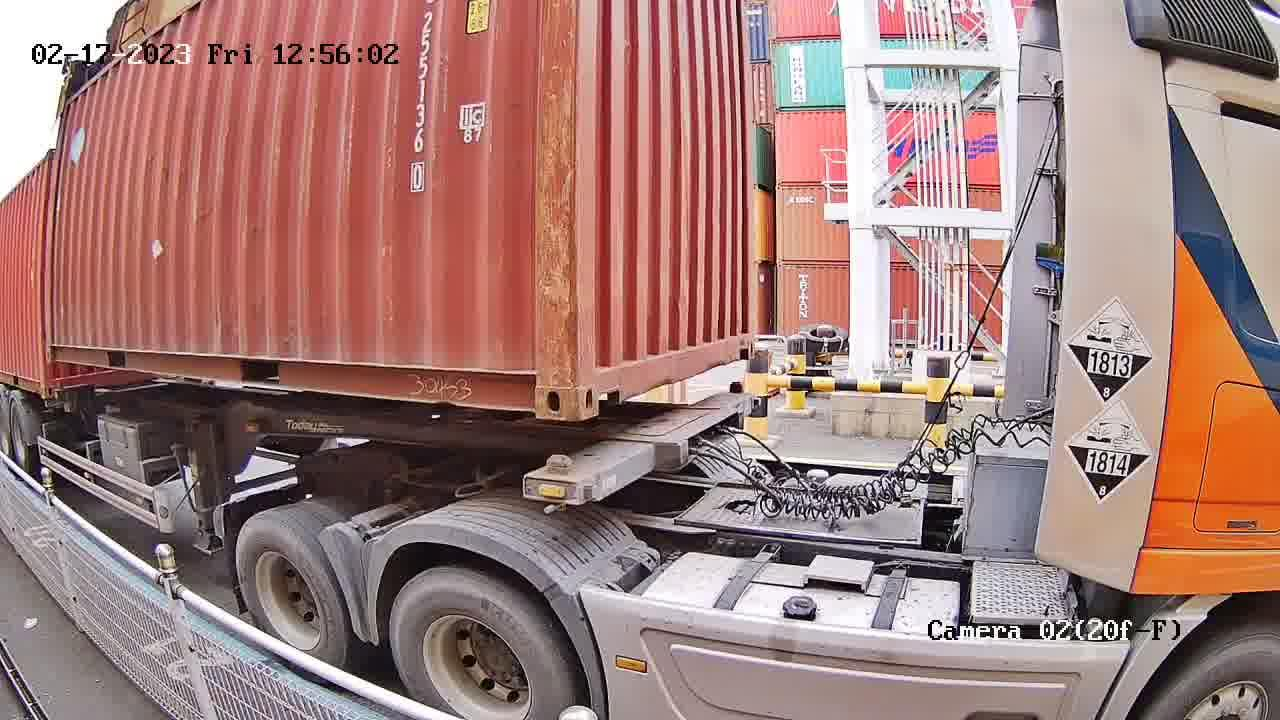Chassis: (526, 390, 753, 506)
Cone: (537, 454, 574, 518), (728, 380, 745, 397)
Hole_L: (575, 332, 629, 420)
Hole_R: (495, 335, 575, 422), (731, 322, 757, 361)
Tire: (391, 571, 567, 719), (236, 516, 344, 666)
